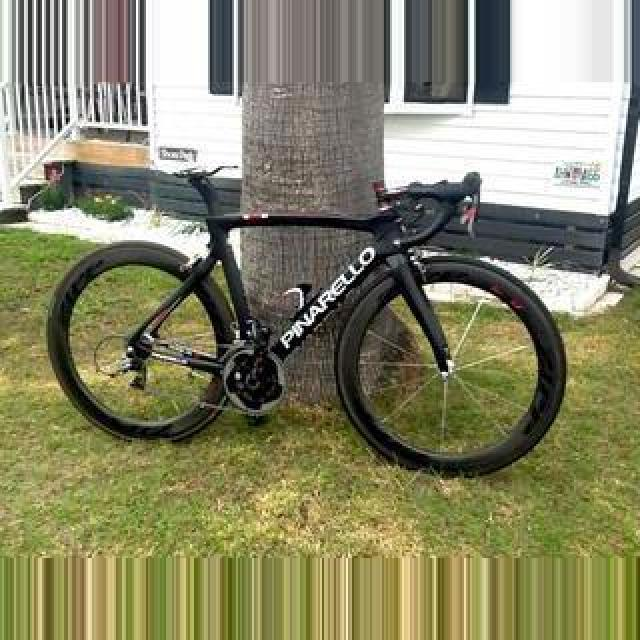Person: (43, 154, 555, 472)
